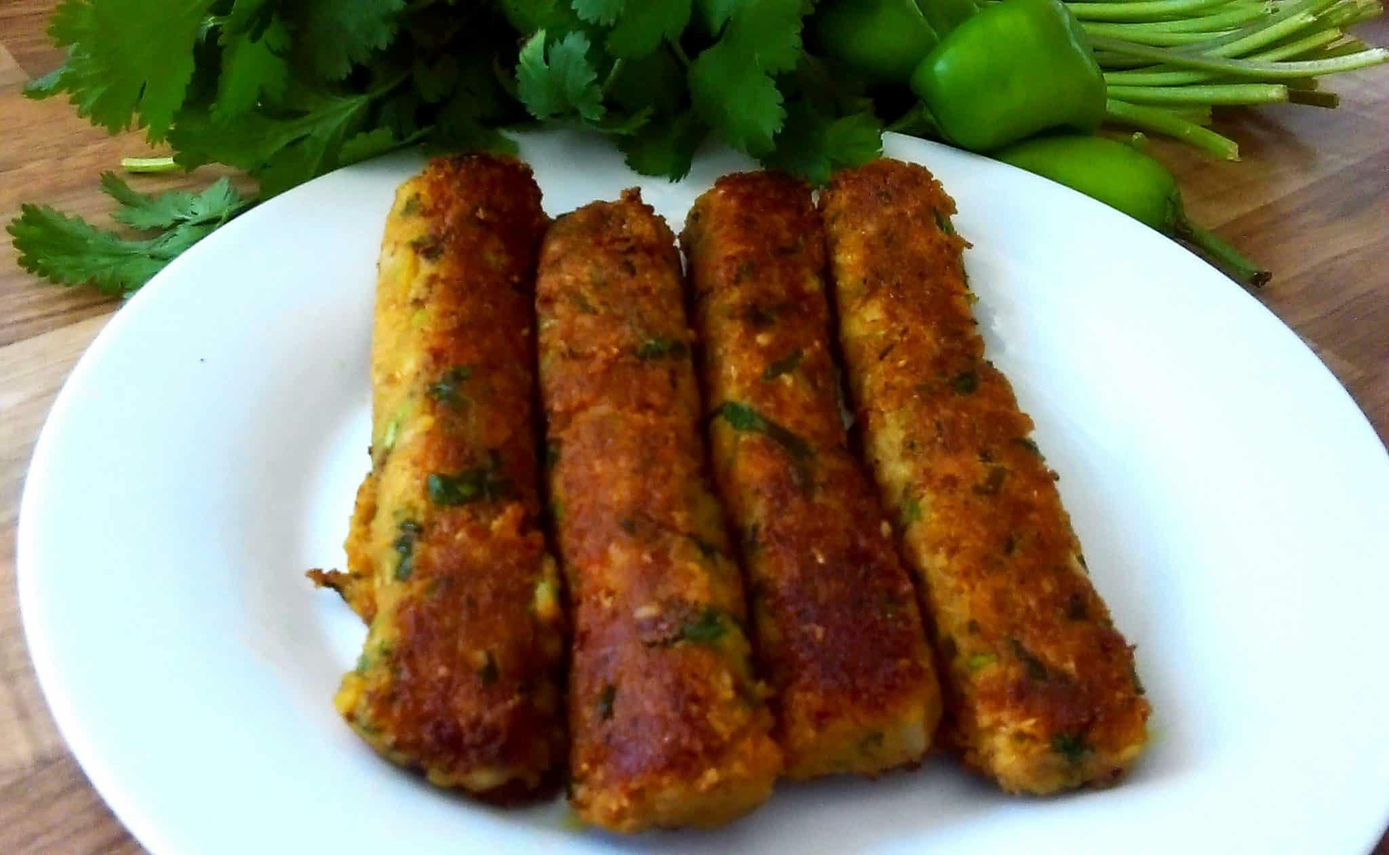Kebab: (820, 158, 1153, 795), (679, 175, 941, 782), (539, 190, 784, 830), (345, 152, 566, 806)
